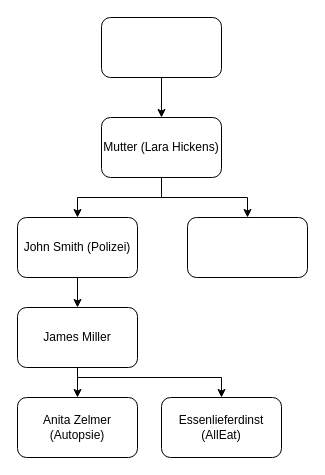
The diagram is 325 pixels wide and 475 high, and some of its shapes have lost their labels. The shapes that lost their labels are listed below. From the top down, each one's centre as x and y in pixels, then its label:
the point at 161,47: Sorgentelefon
the point at 247,247: Kim Brick
